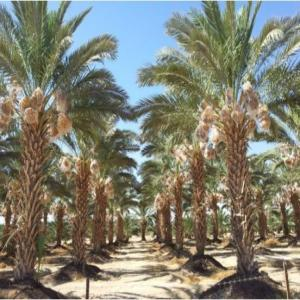palm tree: (134, 0, 299, 277), (0, 0, 133, 282)
